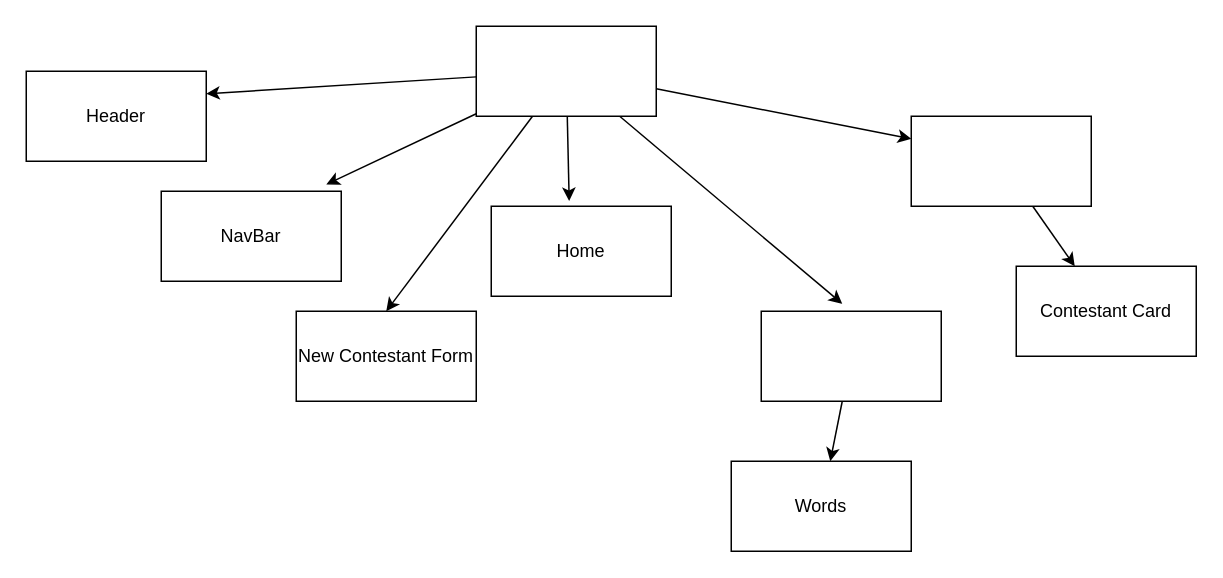
Image size: 1223x578. Some labels were removed from this diagram. Each missing label, with the centre of its shape:
App State of [champions] lives here: (565,70)
Contestant Page (needs access to [champions]: (1000,160)
Dictionary needs access to [champions]: (850,355)
